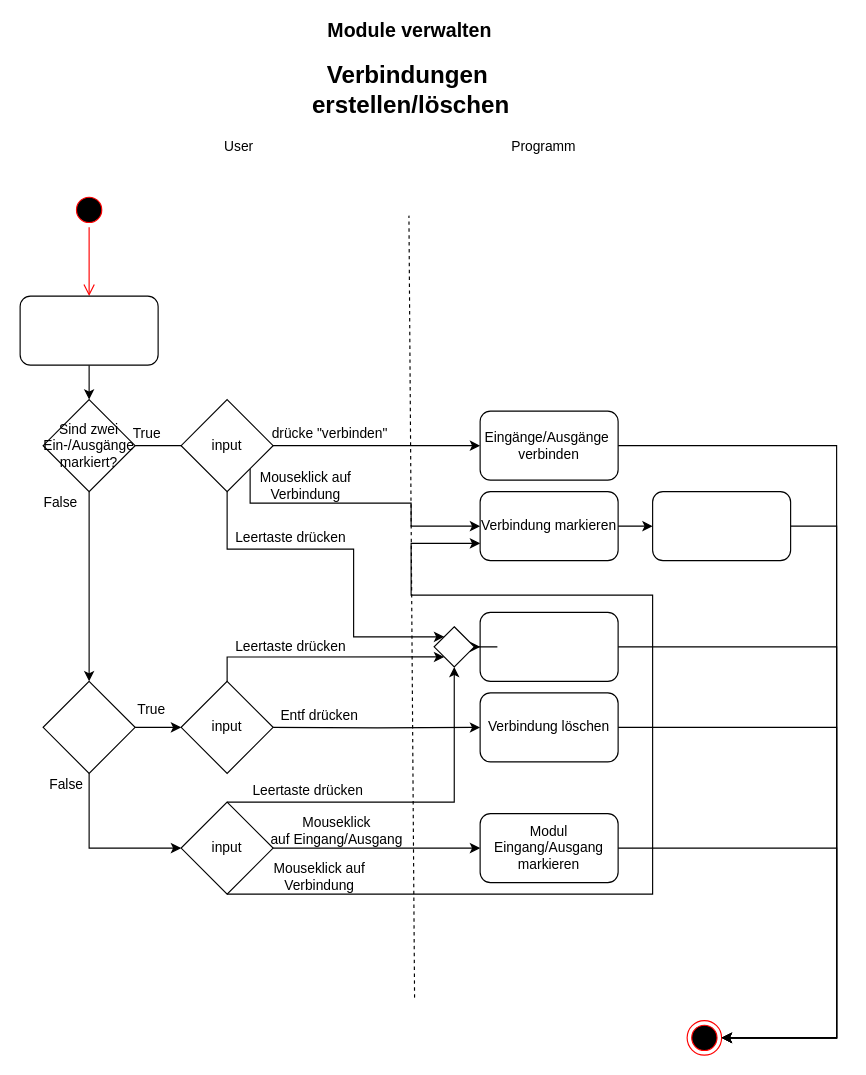
Image size: 866x1075. Some labels were removed from this diagram. Each missing label, with the centre of its shape:
"Alles demarkieren" belongs at (x=548, y=646).
"Ein-/Ausgänge demarkieren" belongs at (x=721, y=525).
"Userinput" belongs at (x=88, y=330).
"Verbindungen markiert?" belongs at (x=88, y=726).
